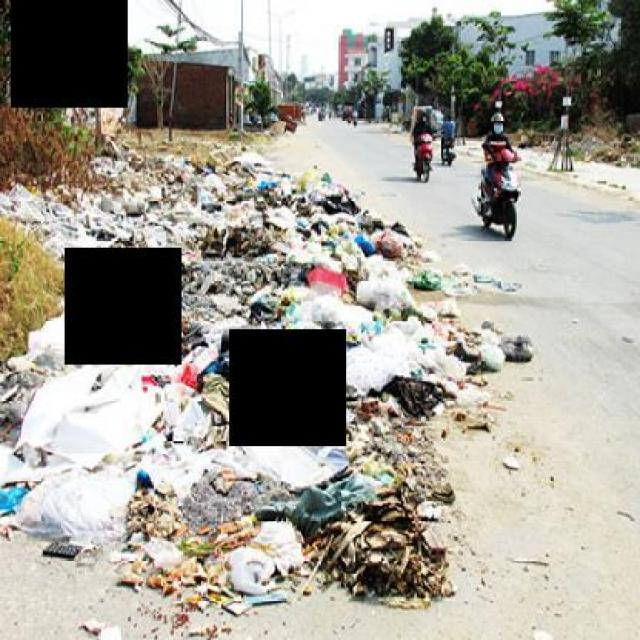plastic bag: (0, 144, 488, 638), (498, 322, 536, 368)
